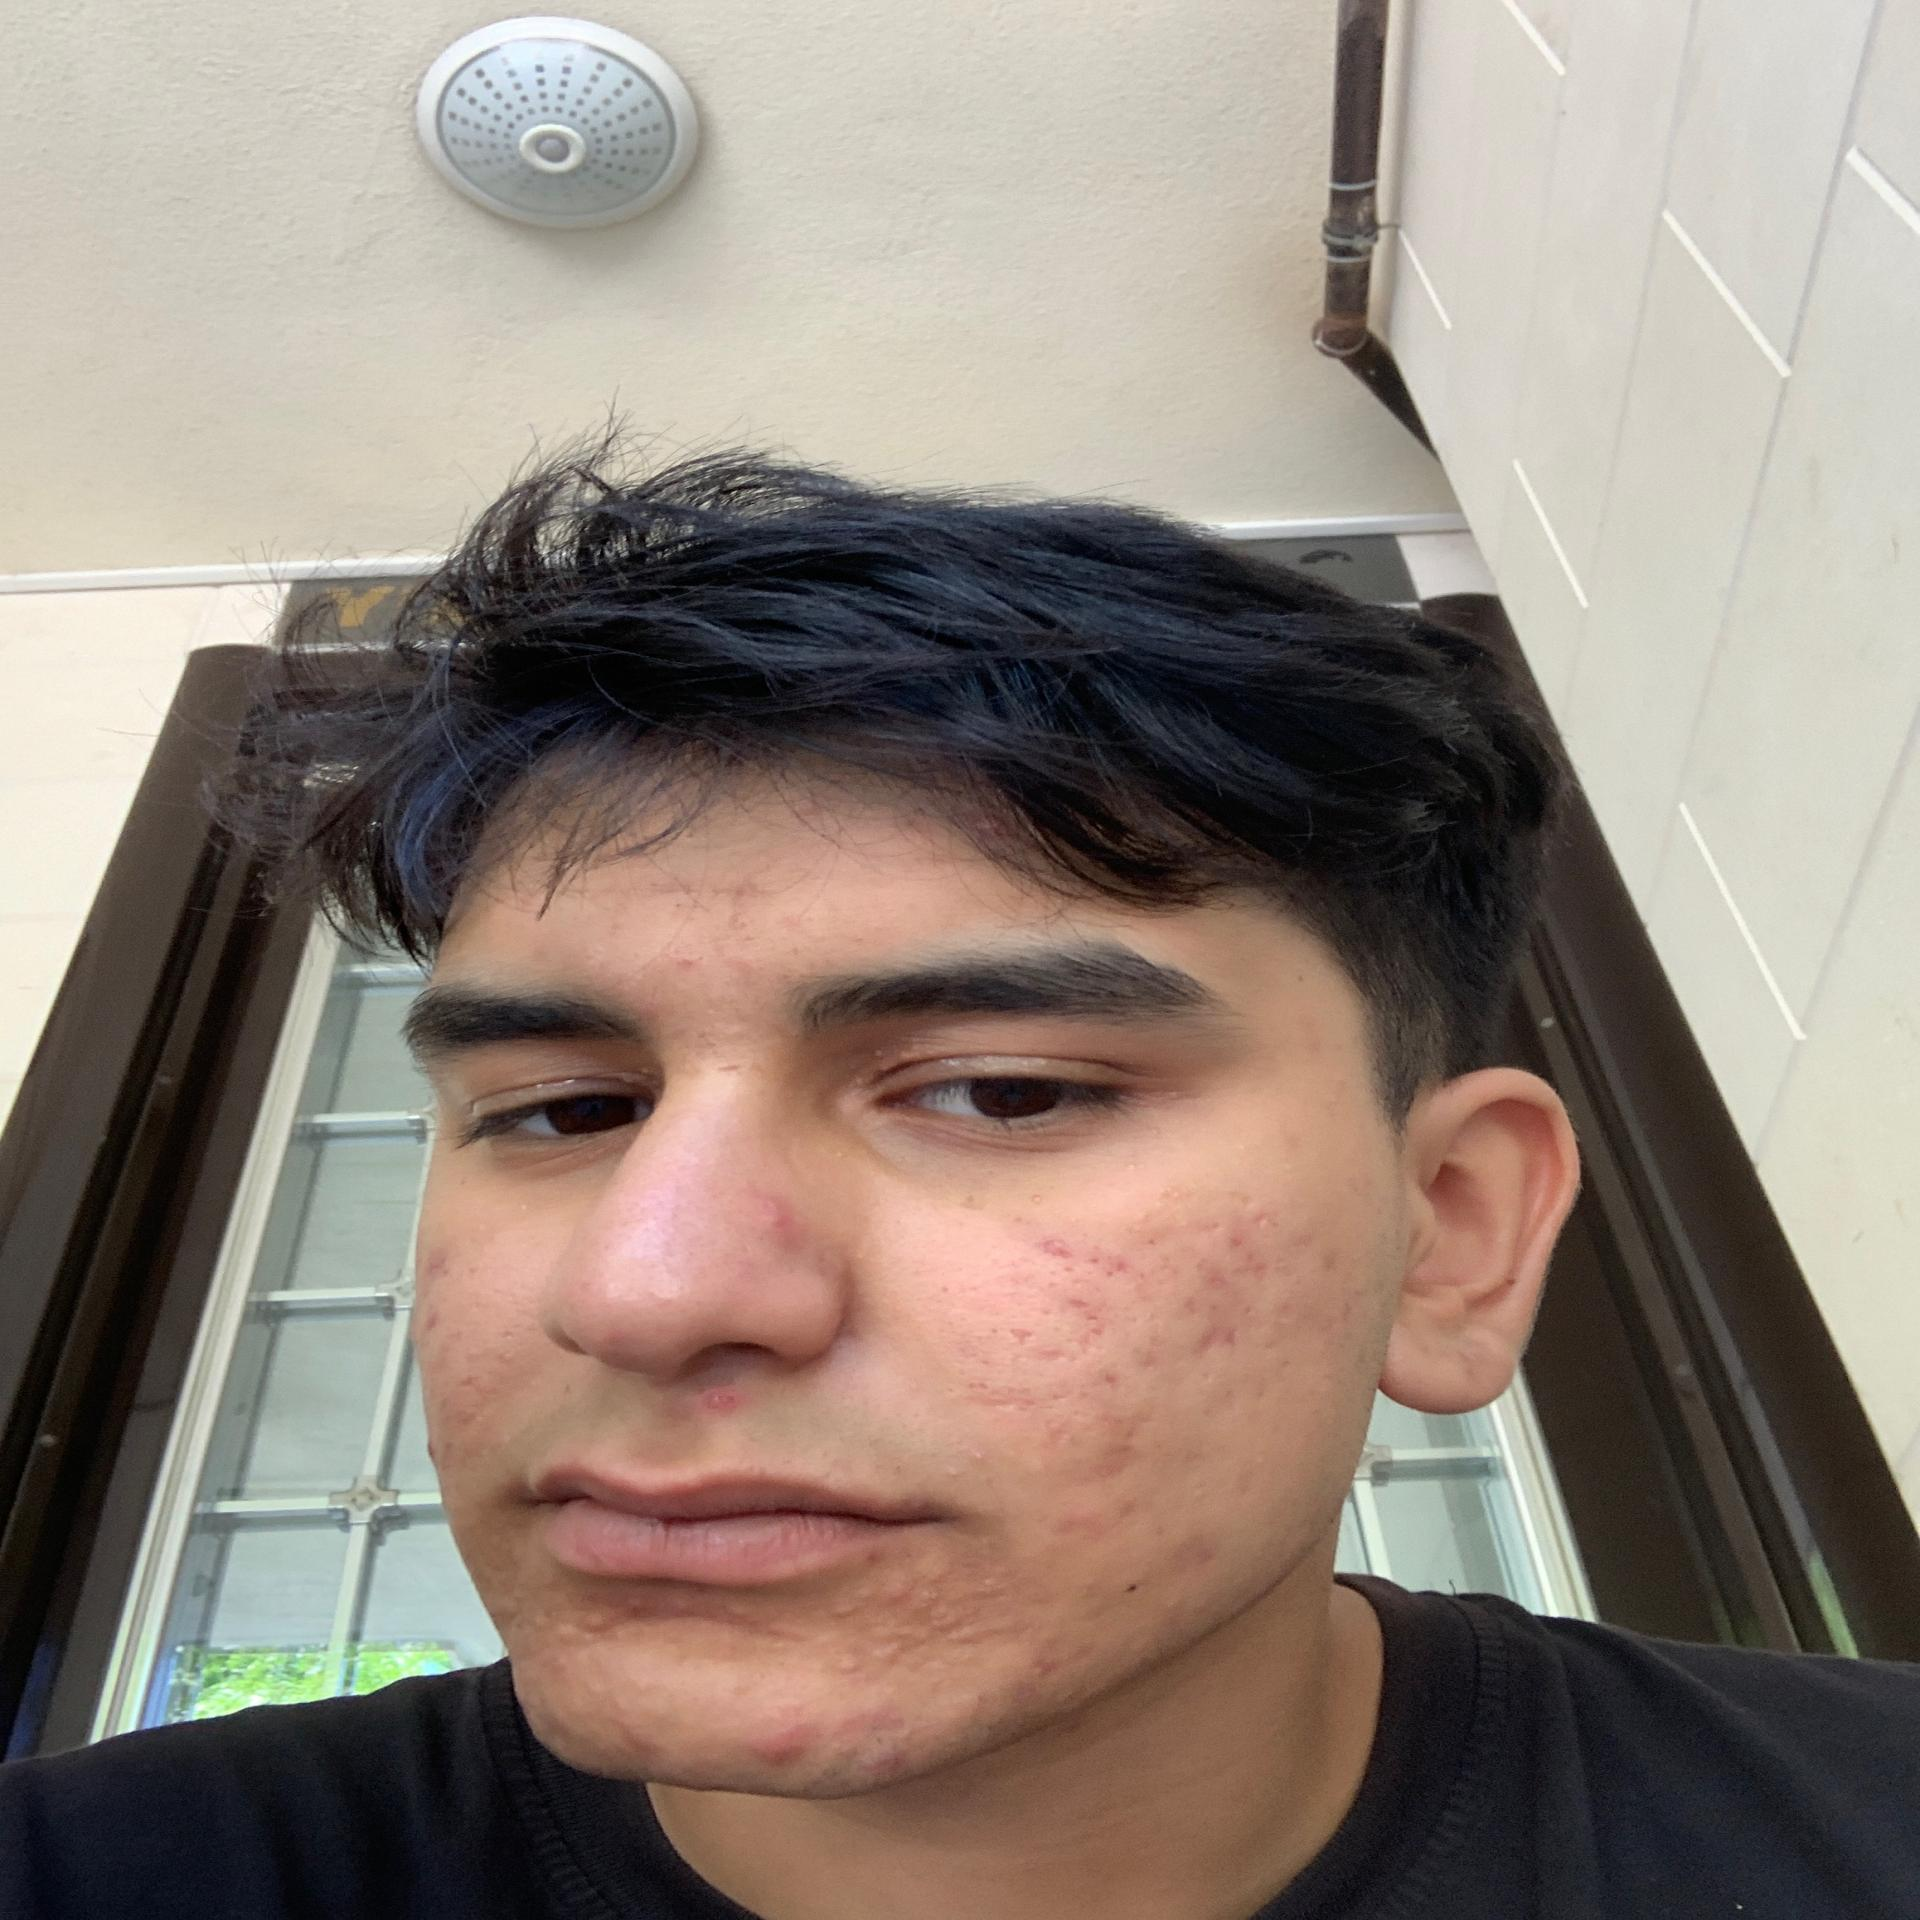Acne: (491, 1589, 788, 1647), (844, 1563, 1004, 1670), (675, 876, 770, 939), (1007, 1637, 1124, 1686), (1065, 1419, 1148, 1486), (1199, 1222, 1271, 1292), (1036, 1500, 1152, 1540), (823, 1693, 916, 1741), (745, 1173, 802, 1250), (675, 1377, 763, 1419), (744, 1718, 825, 1764), (1160, 1524, 1217, 1582), (1178, 1319, 1257, 1359), (603, 1711, 675, 1753), (1296, 1224, 1352, 1276), (851, 1742, 916, 1783), (1057, 1294, 1106, 1345), (705, 944, 765, 983), (1081, 1356, 1134, 1398), (1247, 1192, 1287, 1238), (1292, 1016, 1326, 1071), (1037, 1227, 1080, 1268), (631, 993, 675, 1029), (1280, 1118, 1315, 1162), (411, 1305, 454, 1338), (777, 913, 821, 944), (415, 1247, 459, 1278), (564, 1273, 603, 1305), (1319, 1301, 1363, 1327), (953, 1444, 993, 1470), (644, 1285, 679, 1315), (1087, 1254, 1132, 1276), (415, 1433, 443, 1470), (538, 1647, 575, 1676), (668, 948, 707, 974), (436, 1431, 468, 1463), (1004, 1324, 1036, 1352), (417, 1275, 440, 1296)
Englarged Pores: (942, 1243, 1196, 1400), (422, 1336, 527, 1435), (598, 1185, 695, 1264)
Wrinkles: (531, 883, 781, 902)
